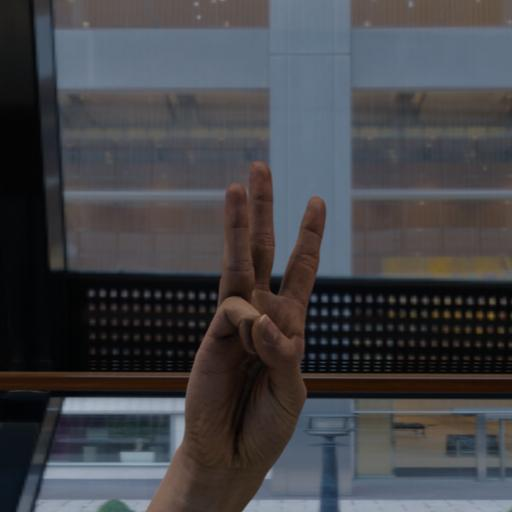W: (146, 107, 450, 512)
